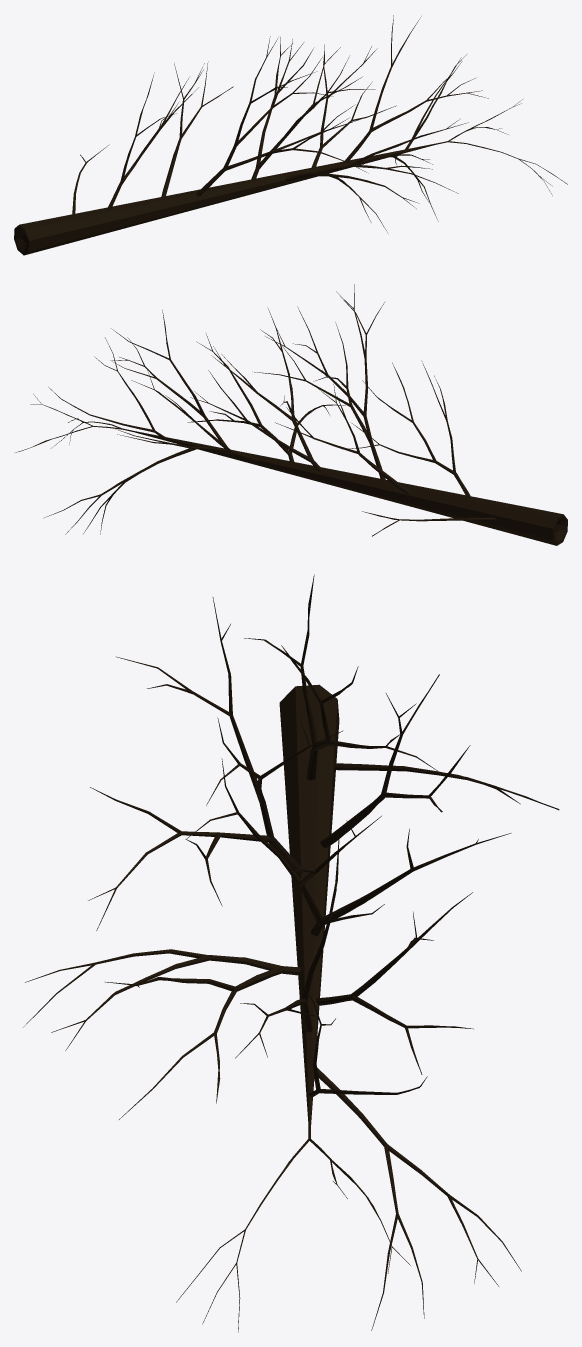
Rendered from deadTreeL.fbx.
The picture shows the model from 3 angles, top to bottom: view 1: azimuth 30°, elevation 25°; view 2: azimuth 150°, elevation 25°; view 3: azimuth 270°, elevation 25°; orthographic projection. The views are drawn at different scales.
Visible parts, largest first — view 1: deadTreeL, deadTreeL1, deadTreeL2; view 2: deadTreeL, deadTreeL1, deadTreeL2; view 3: deadTreeL, deadTreeL1, deadTreeL2.
Boxes of the visible parts, x1,y1,x2,y2 form: deadTreeL: (14, 15, 567, 255); deadTreeL1: (15, 16, 564, 254); deadTreeL2: (14, 20, 567, 254); deadTreeL: (17, 284, 567, 545); deadTreeL1: (16, 296, 567, 544); deadTreeL2: (33, 288, 567, 545); deadTreeL: (23, 574, 558, 1332); deadTreeL1: (32, 595, 556, 1327); deadTreeL2: (60, 576, 559, 1301).
Size of the model in its own units: 503 by 248 by 227.
